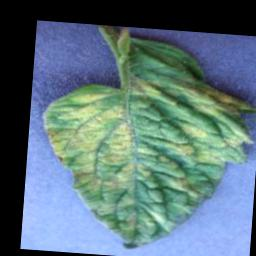Leaf_Mold: (35, 81, 139, 235), (177, 123, 208, 141), (167, 172, 191, 192), (166, 141, 195, 157)
